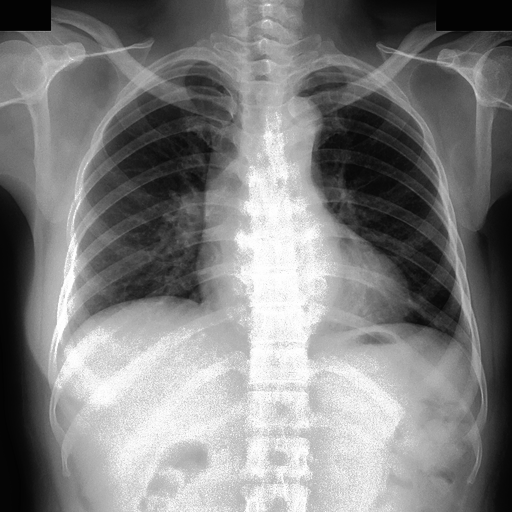Consolidation: (210, 99, 323, 191), (266, 94, 323, 145)
Nodule/Mass: (193, 257, 409, 325)
